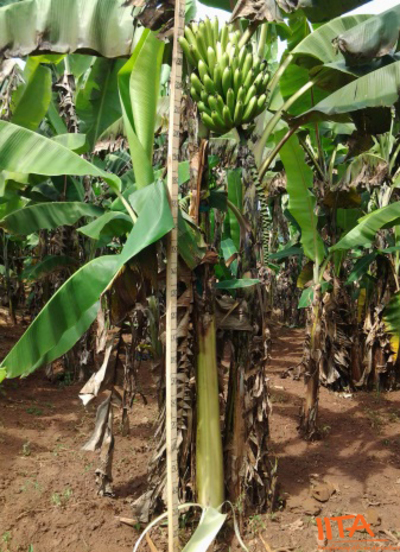bananaHand: (172, 11, 271, 138)
